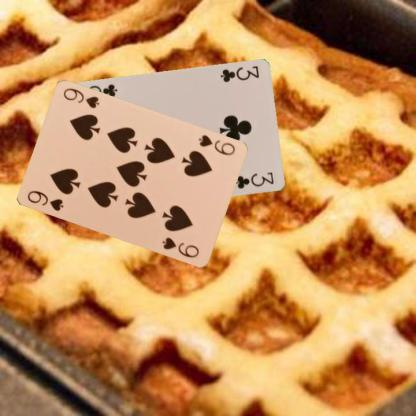3c: (218, 64, 260, 84)
9s: (196, 132, 236, 157), (24, 188, 65, 212)
